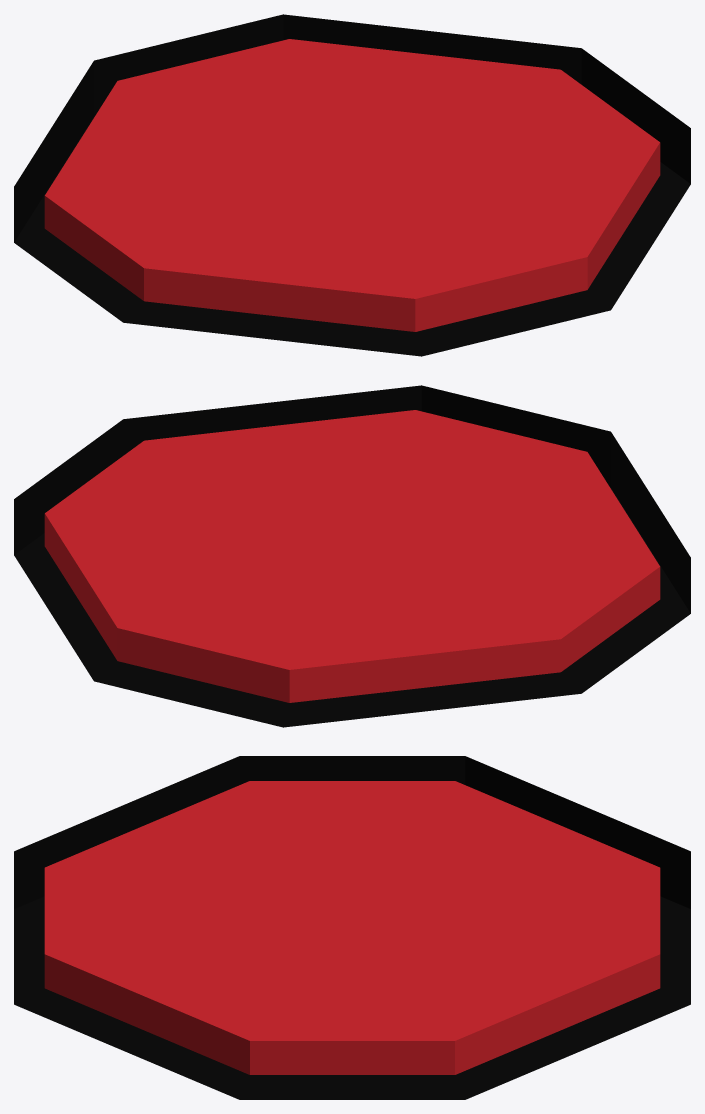
Rendered from finnishArea.fbx.
3 renders of one model, top to bottom at view 1: azimuth 30°, elevation 25°; view 2: azimuth 150°, elevation 25°; view 3: azimuth 270°, elevation 25°, orthographic. The views are drawn at different scales.
Visible parts, largest first — view 1: FinnishLine, FinnishLine_Outline; view 2: FinnishLine, FinnishLine_Outline; view 3: FinnishLine, FinnishLine_Outline.
Part boxes in pixels (<box>): FinnishLine: <box>44,39,660,331</box>; FinnishLine_Outline: <box>14,14,690,356</box>; FinnishLine: <box>44,410,660,702</box>; FinnishLine_Outline: <box>14,385,690,727</box>; FinnishLine: <box>44,781,660,1074</box>; FinnishLine_Outline: <box>14,756,690,1099</box>.
Bounding box in the file's own units: 1796 × 169 × 1796.
